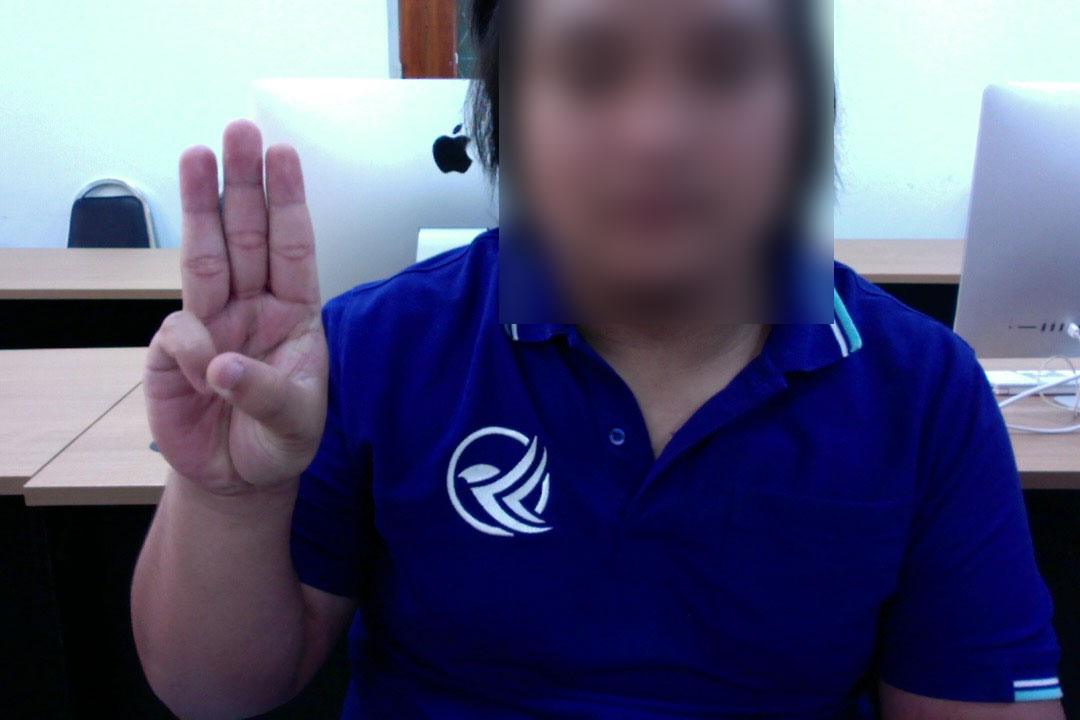wor: (134, 112, 372, 504)
